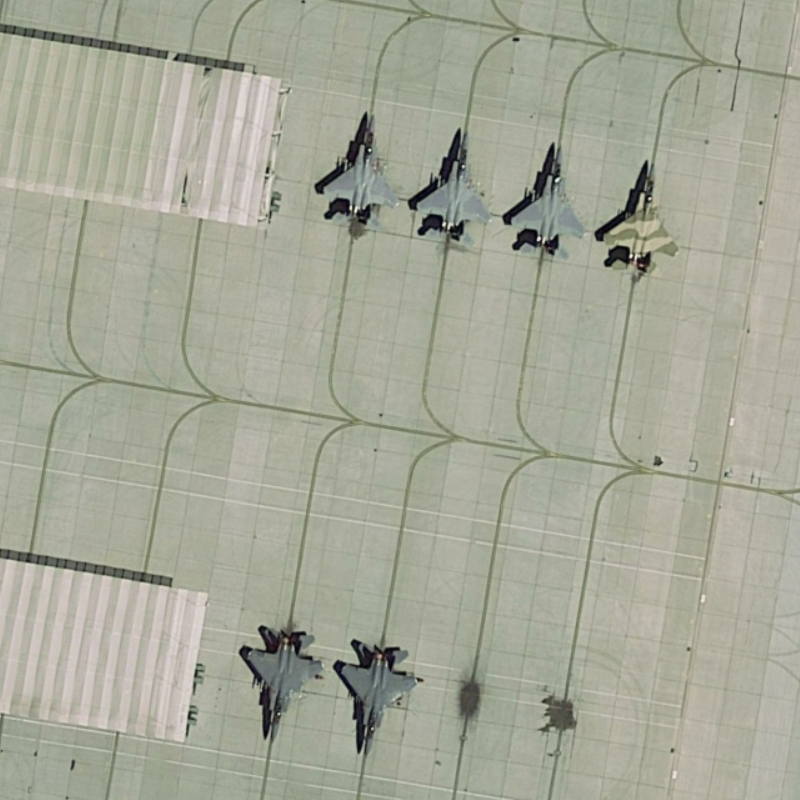A13: (236, 611, 330, 749), (405, 119, 497, 256), (327, 633, 421, 761), (502, 138, 595, 266), (313, 105, 404, 233), (596, 153, 683, 283)
